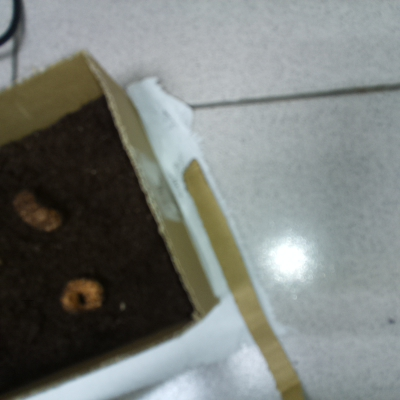eggs: (11, 183, 69, 238), (59, 272, 109, 320)
